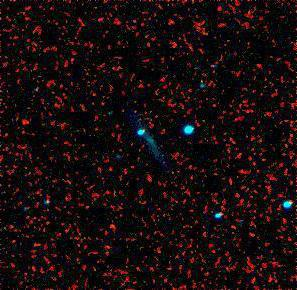star: (131, 119, 161, 149)
